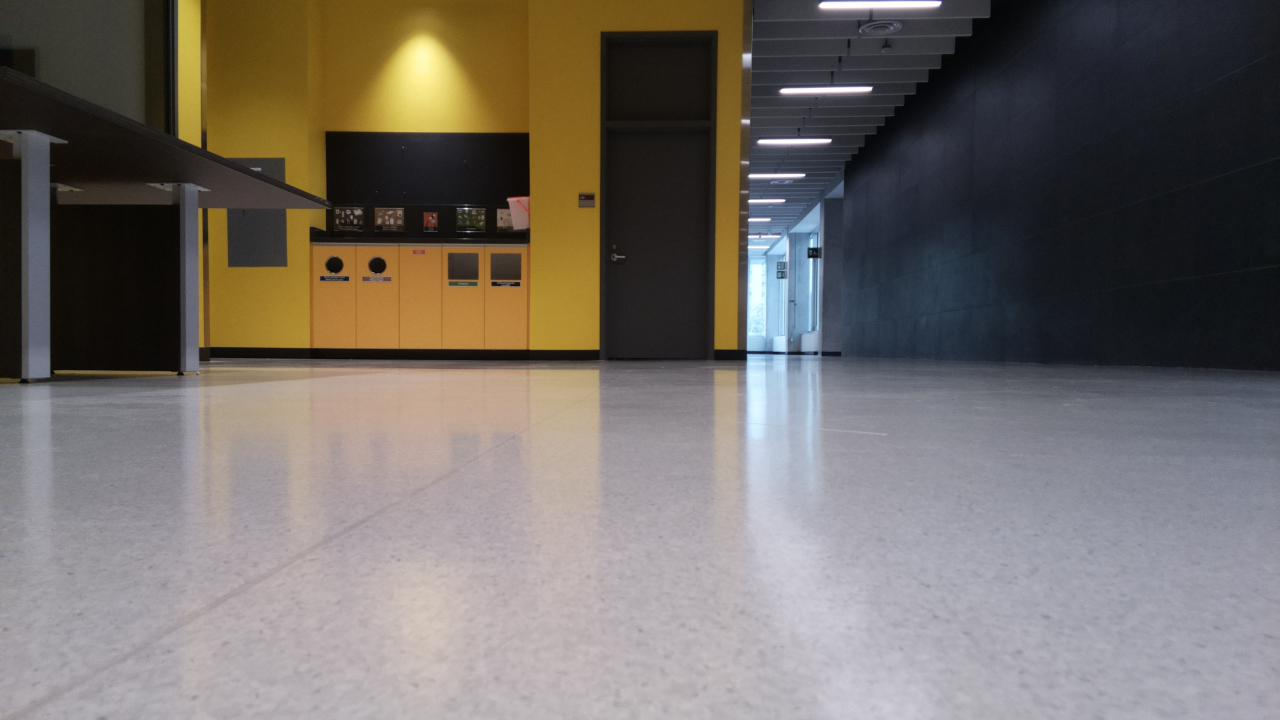door: (604, 125, 710, 359)
sign: (332, 207, 513, 230)
